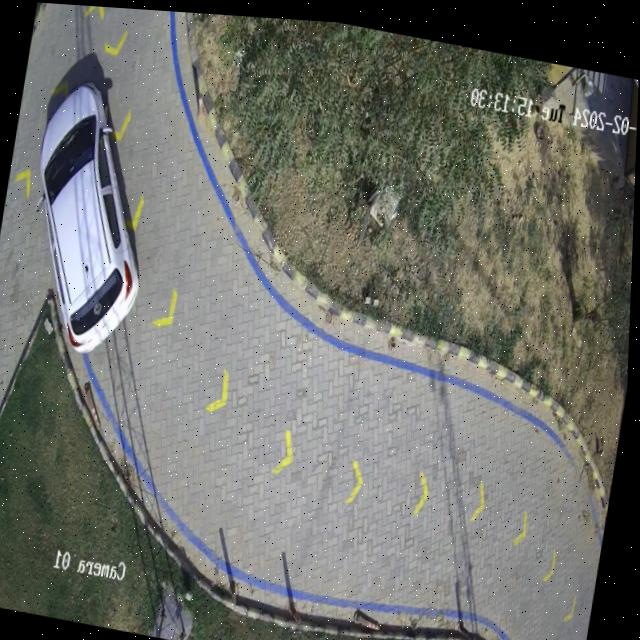car: (37, 81, 141, 352)
